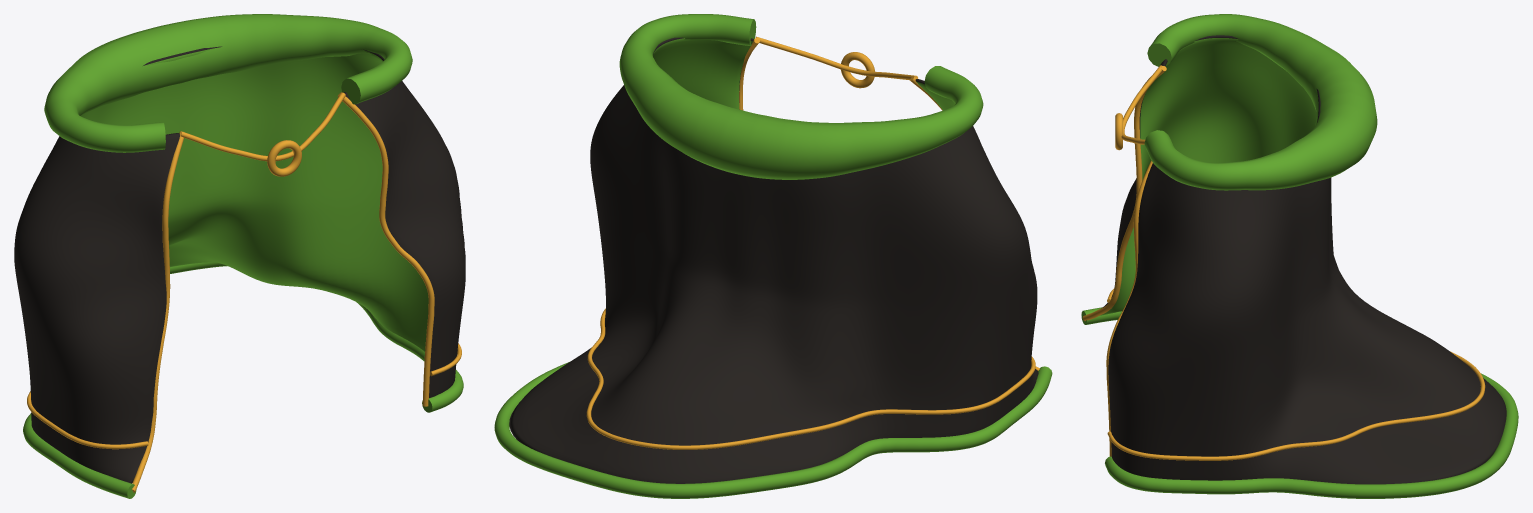
File: capa.glb
3 renders of one model, left to right at view 1: azimuth 30°, elevation 25°; view 2: azimuth 150°, elevation 25°; view 3: azimuth 270°, elevation 25°, orthographic. The views are drawn at different scales.
Parts seen in each view (by area): view 1: accesorio_capa; view 2: accesorio_capa; view 3: accesorio_capa.
Boxes of the visible parts, <box> form: accesorio_capa: <box>14,14,465,498</box>; accesorio_capa: <box>494,14,1052,498</box>; accesorio_capa: <box>1081,14,1518,498</box>.
Size of the model in its own units: 1.28 by 0.9469 by 1.19.
